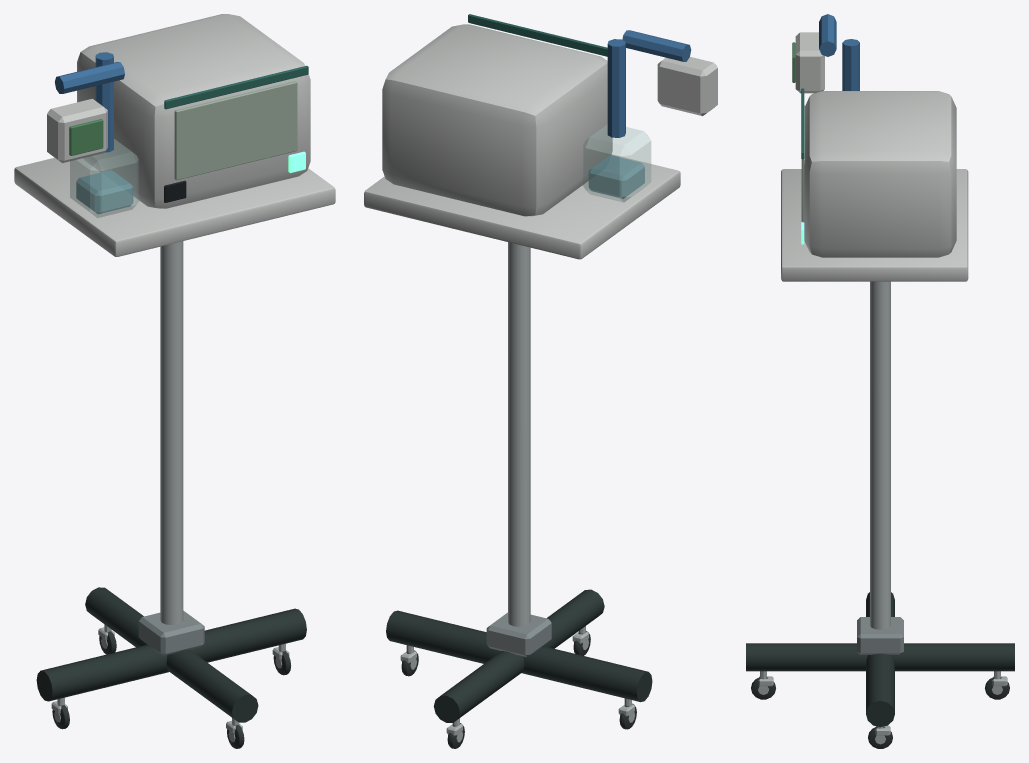
Rendered from niv-ventilator.glb.
The picture shows the model from 3 angles, left to right: view 1: azimuth 30°, elevation 25°; view 2: azimuth 150°, elevation 25°; view 3: azimuth 270°, elevation 25°; orthographic projection. The views are drawn at different scales.
Parts seen in each view (by area): view 1: niv-ventilator; view 2: niv-ventilator; view 3: niv-ventilator.
Part boxes in pixels (left/top/right/bottom): niv-ventilator: left=14, top=14, right=335, bottom=748; niv-ventilator: left=364, top=14, right=717, bottom=748; niv-ventilator: left=746, top=14, right=1014, bottom=748.
Bounding box in the file's own units: 0.515 × 1.17 × 0.46.
